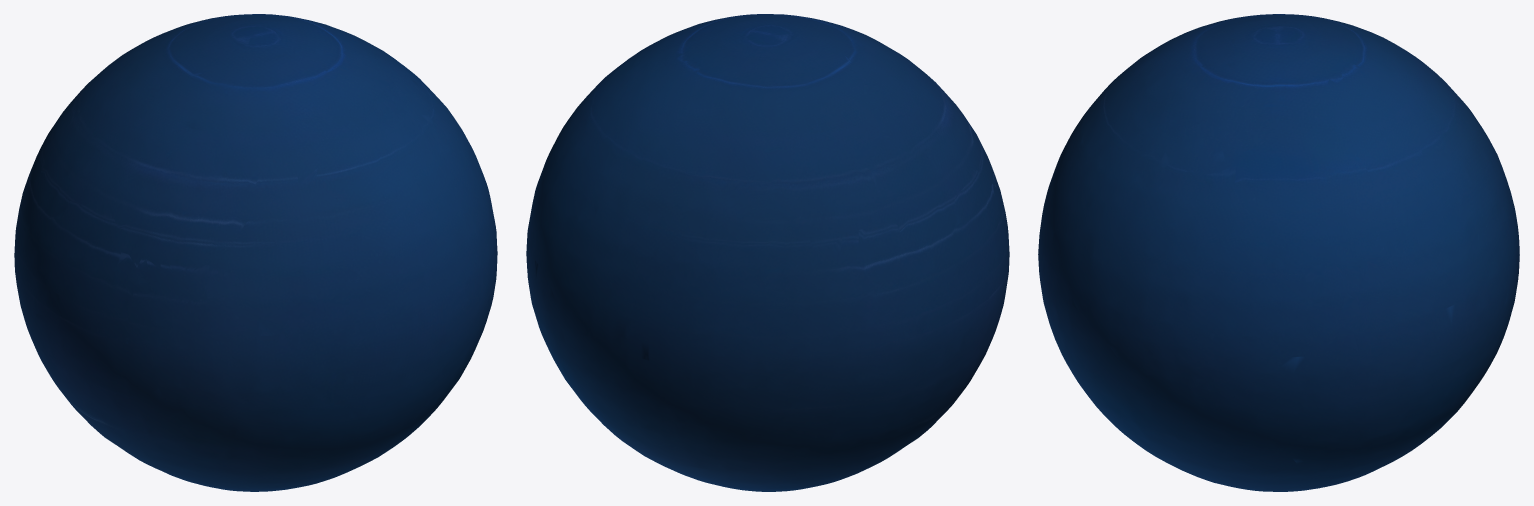
The model's file is blue_ball_lod.glb.
3 views of the same model, side by side, from view 1: azimuth 30°, elevation 25°; view 2: azimuth 150°, elevation 25°; view 3: azimuth 270°, elevation 25° (orthographic).
Parts seen in each view (by area): view 1: world; view 2: world; view 3: world.
Part boxes in pixels (x1,y1,x2,y2): world: [14, 14, 497, 491]; world: [526, 14, 1009, 491]; world: [1038, 14, 1519, 491].
Bounding box in the file's own units: 1 × 0.9983 × 0.994.
1 material, 1 textured.
